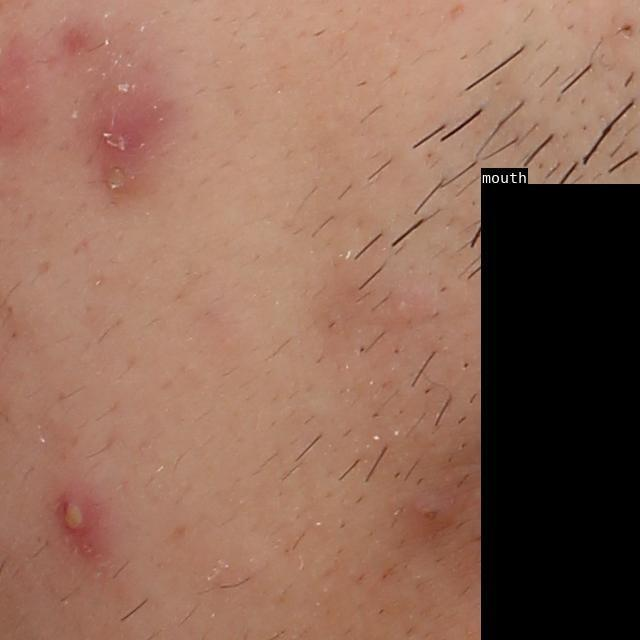papule: (83, 80, 167, 180), (399, 487, 456, 536)
pustule: (52, 484, 98, 542)
